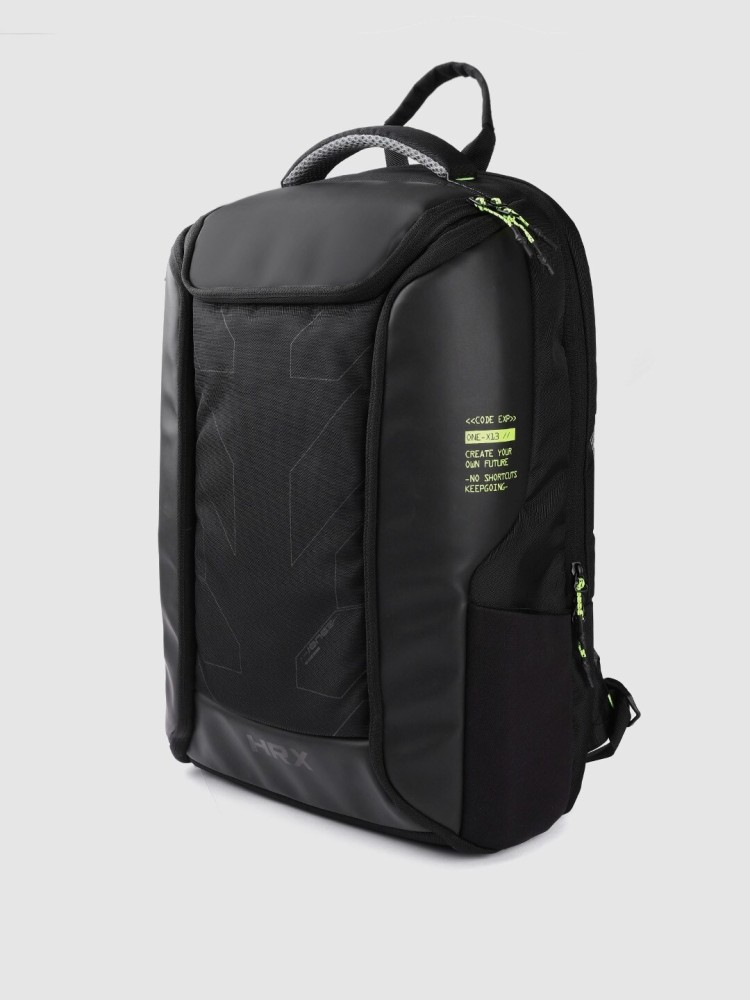backpack: (157, 60, 640, 855)
